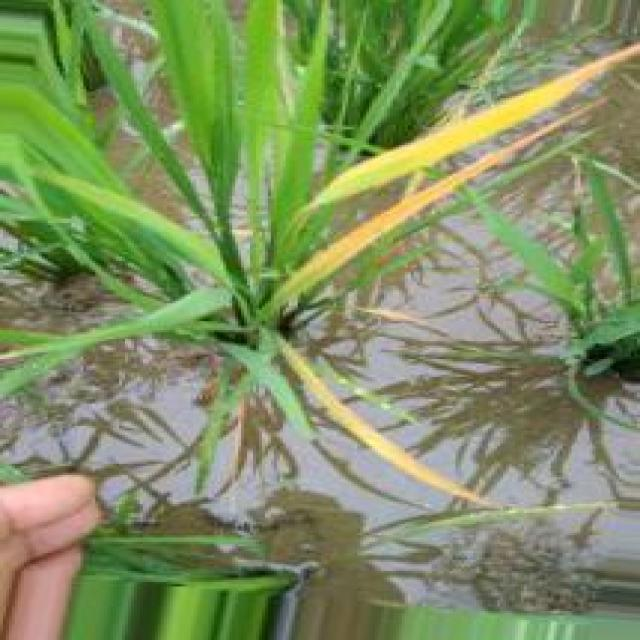Rice Tungro: (275, 111, 586, 299), (312, 47, 639, 211), (283, 340, 492, 507)
